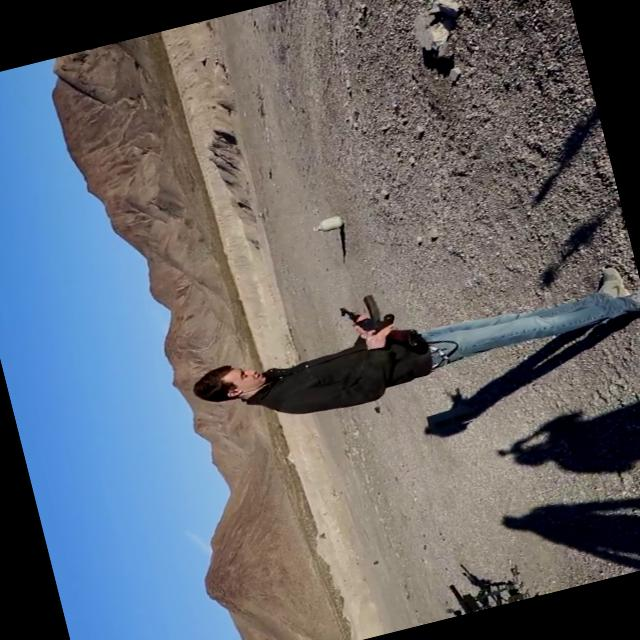long weapon: (325, 275, 425, 371)
